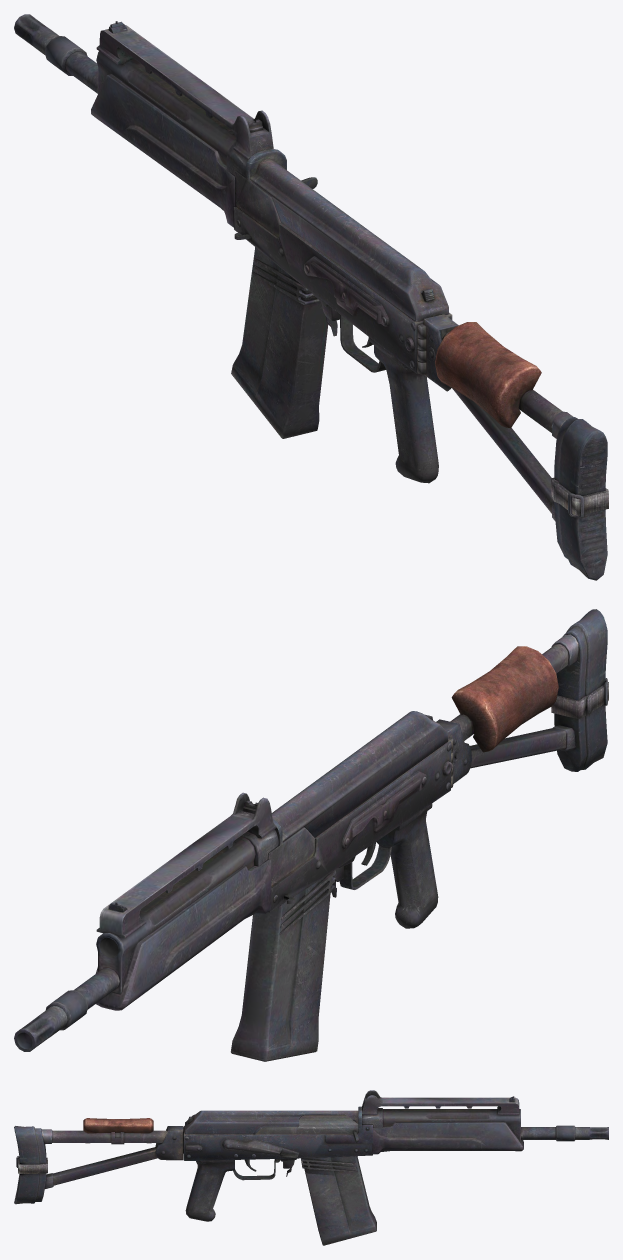
Rendered from shotgun_saiga.glb.
3 views of the same model, one above another, from view 1: azimuth 30°, elevation 25°; view 2: azimuth 150°, elevation 25°; view 3: azimuth 270°, elevation 25° (orthographic). The views are drawn at different scales.
Visible parts, largest first — view 1: body, mag; view 2: body, mag; view 3: body, mag.
Part boxes in pixels (x1,y1,x2,y2): body: [14, 14, 608, 580]; mag: [231, 247, 328, 438]; body: [14, 609, 608, 1051]; mag: [230, 885, 329, 1061]; body: [14, 1090, 608, 1221]; mag: [306, 1156, 376, 1245].
Size of the model in its own units: 0.0795 by 0.2673 by 0.97.
6 materials, 6 textured.
